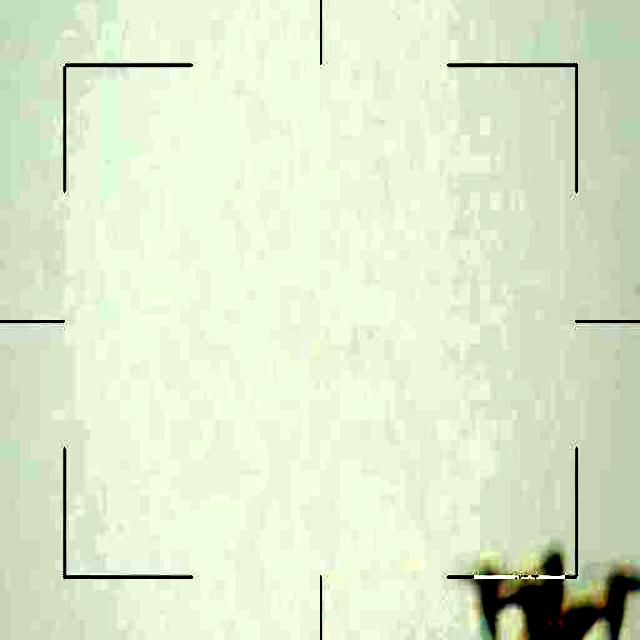bird: (445, 541, 635, 640)
